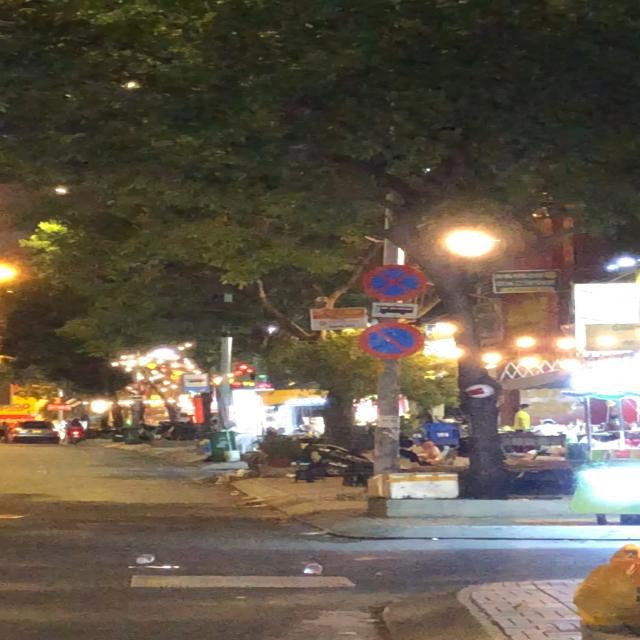Bien bao cam do xe: (354, 322, 433, 361)
Bien bao cam dung xe va do xe: (359, 263, 432, 306)
